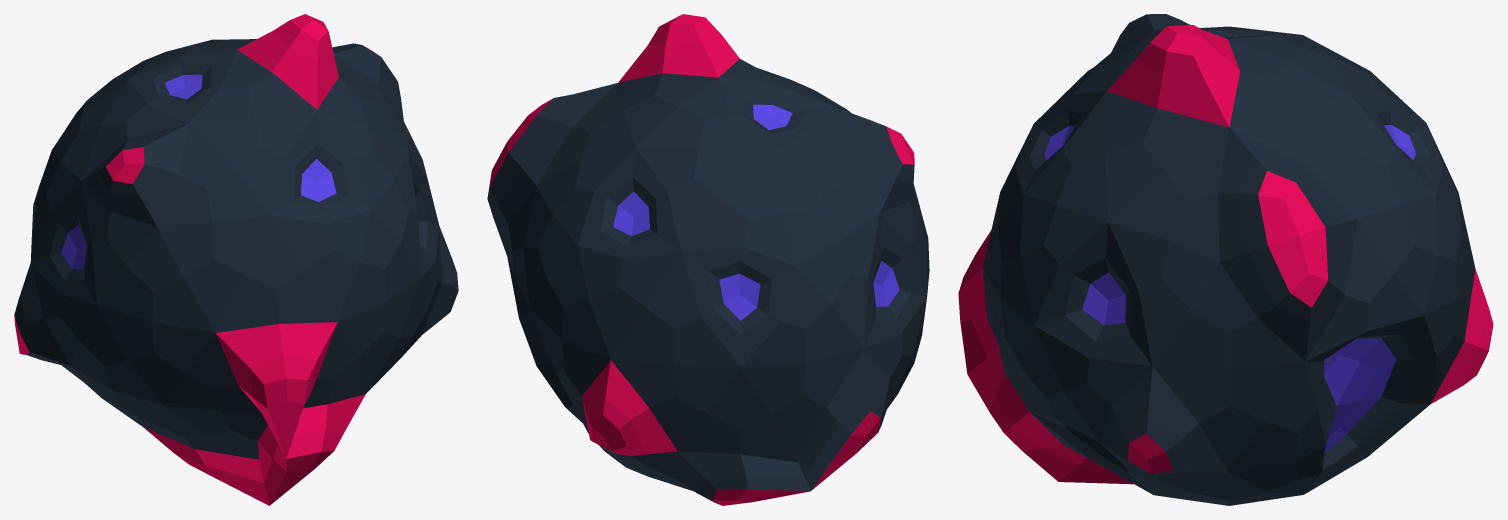
File: Planet4Evo4.glb
3 views of the same model, side by side, from view 1: azimuth 30°, elevation 25°; view 2: azimuth 150°, elevation 25°; view 3: azimuth 270°, elevation 25° (orthographic). The views are drawn at different scales.
Visible parts, largest first — view 1: Icosphere.060; view 2: Icosphere.060; view 3: Icosphere.060.
Part boxes in pixels (bbox=[...]): Icosphere.060: bbox=[14, 14, 458, 505]; Icosphere.060: bbox=[487, 14, 929, 505]; Icosphere.060: bbox=[958, 14, 1493, 505].
Bounding box in the file's own units: 1.85 × 2 × 1.93.
